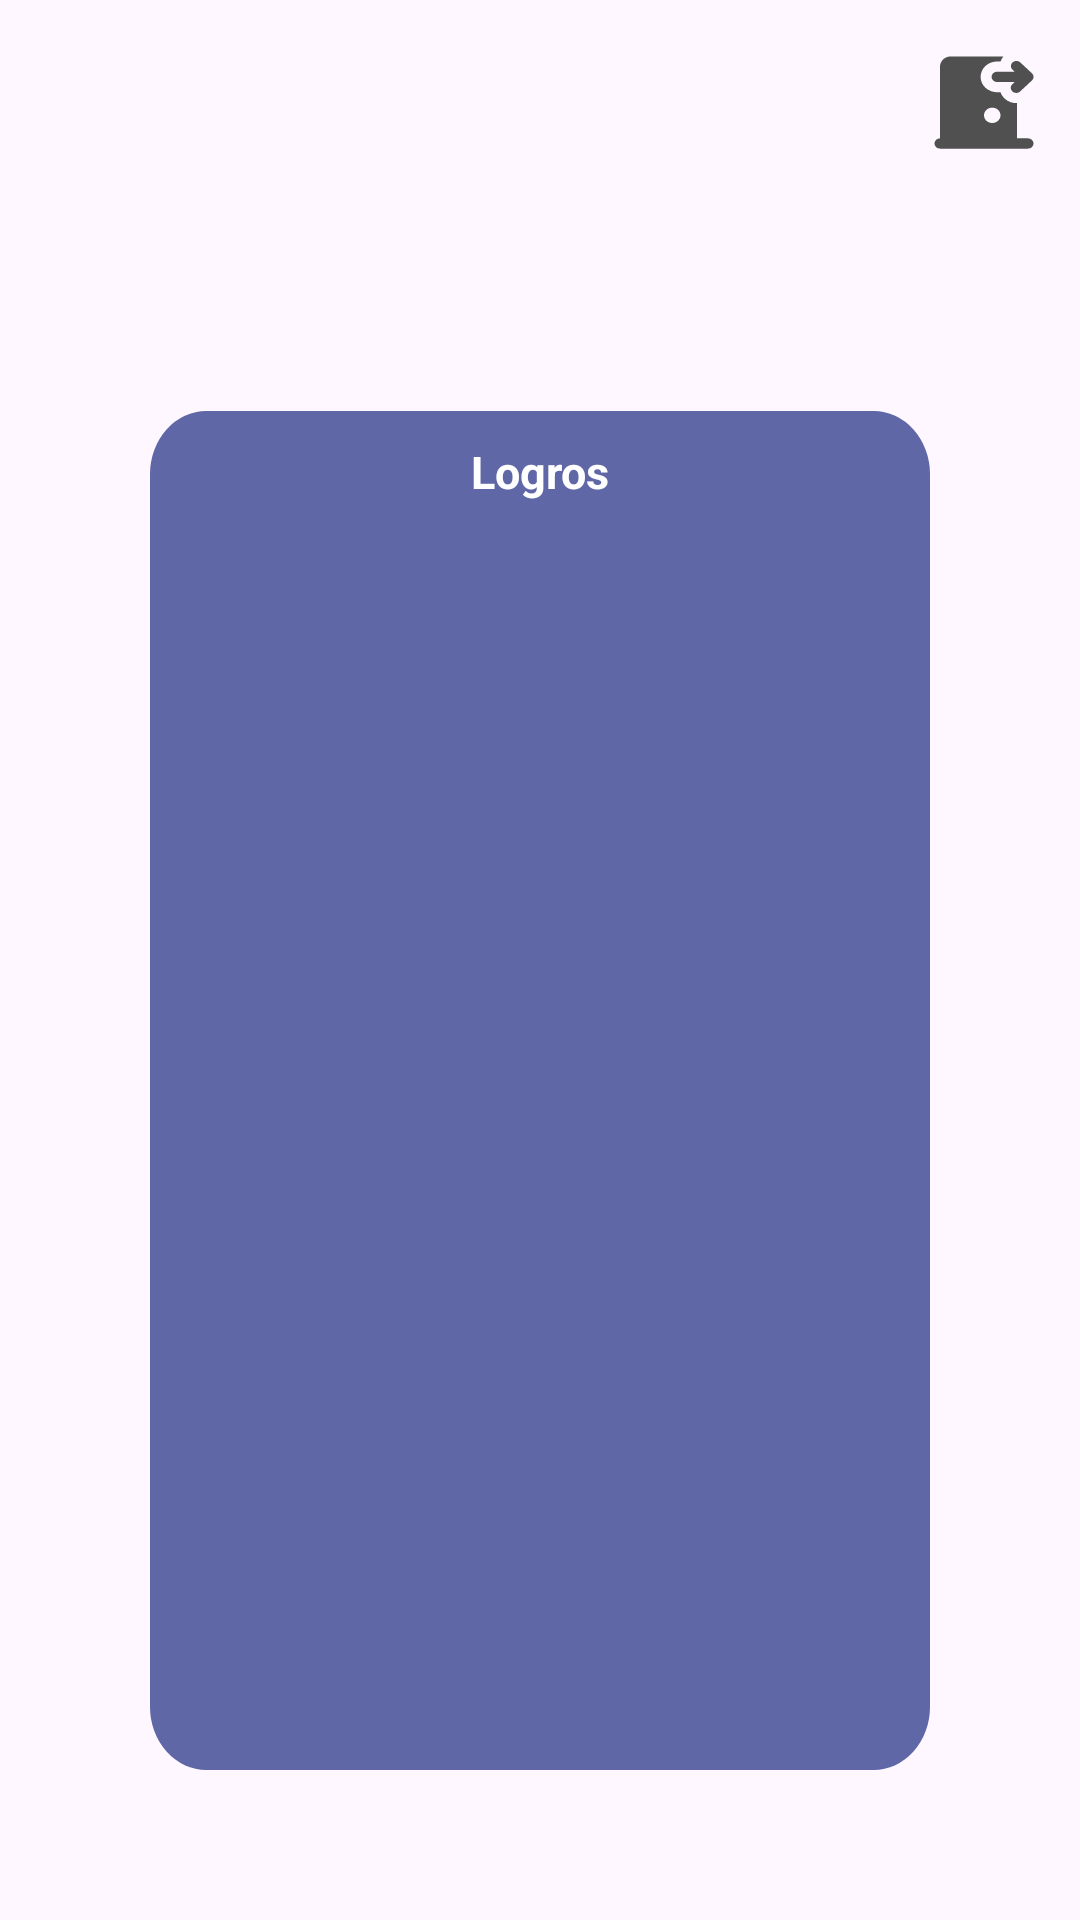

Where to tap for icons on this 1080x1920 app screen, as (x=x, y=y):
door: (x=984, y=102)
